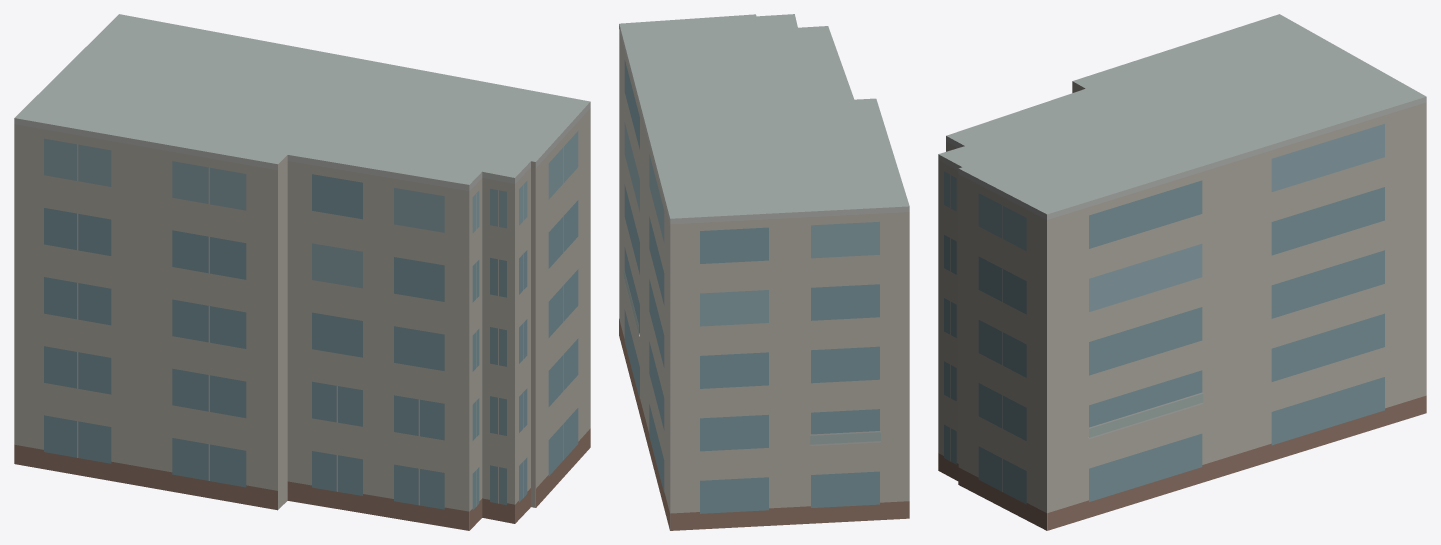
The model's file is survey-upis-32693483.glb.
3 renders of one model, left to right at view 1: azimuth 30°, elevation 25°; view 2: azimuth 150°, elevation 25°; view 3: azimuth 270°, elevation 25°, orthographic. The views are drawn at different scales.
Visible parts, largest first — view 1: survey-upis-32693483.tmp; view 2: survey-upis-32693483.tmp; view 3: survey-upis-32693483.tmp.
Part boxes in pixels (bbox=[...]): survey-upis-32693483.tmp: bbox=[14, 14, 590, 530]; survey-upis-32693483.tmp: bbox=[619, 14, 909, 530]; survey-upis-32693483.tmp: bbox=[938, 14, 1426, 530].
Bounding box in the file's own units: 18.82 × 13.85 × 19.38.
